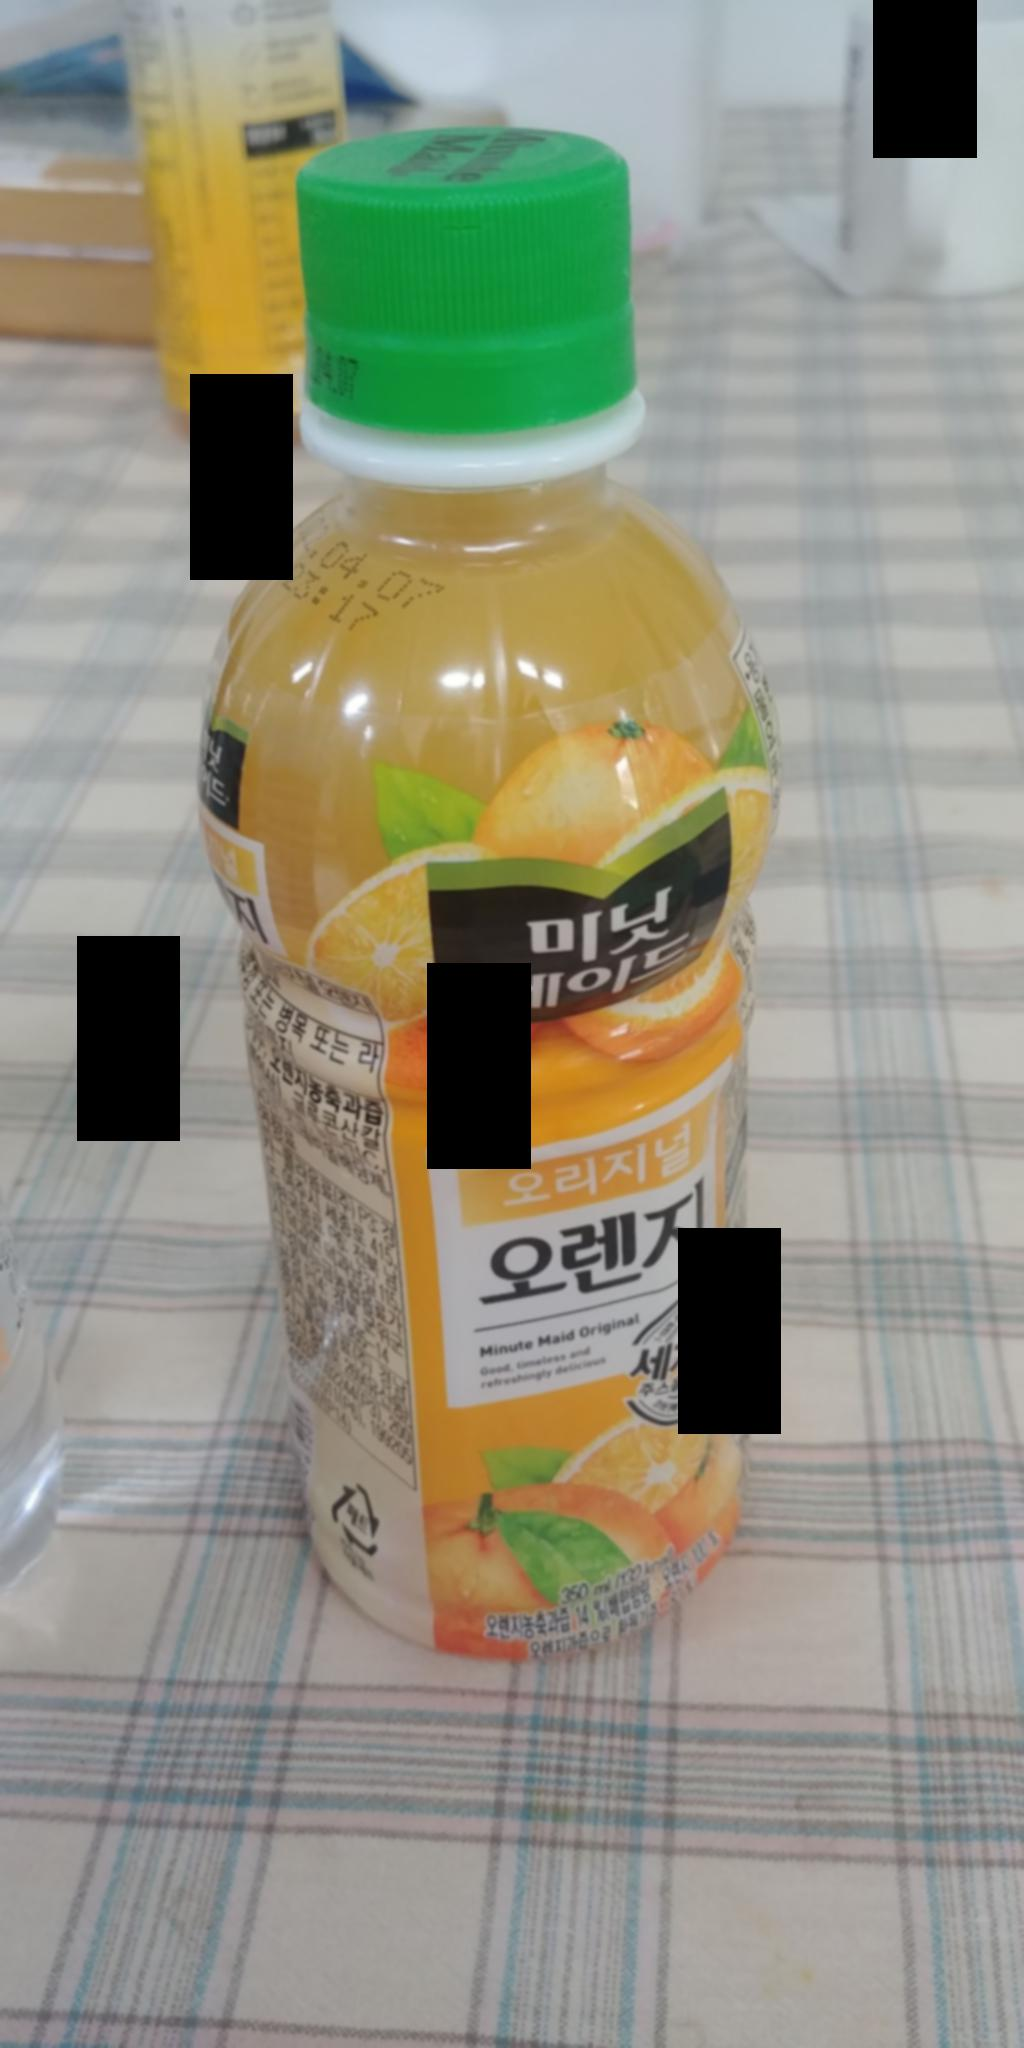minutemaid_org_orange: (189, 125, 792, 1671)
